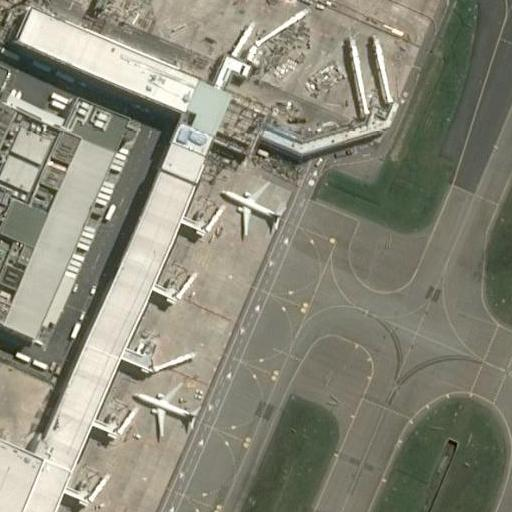Aircraft: (131, 378, 200, 437), (221, 178, 285, 236)
